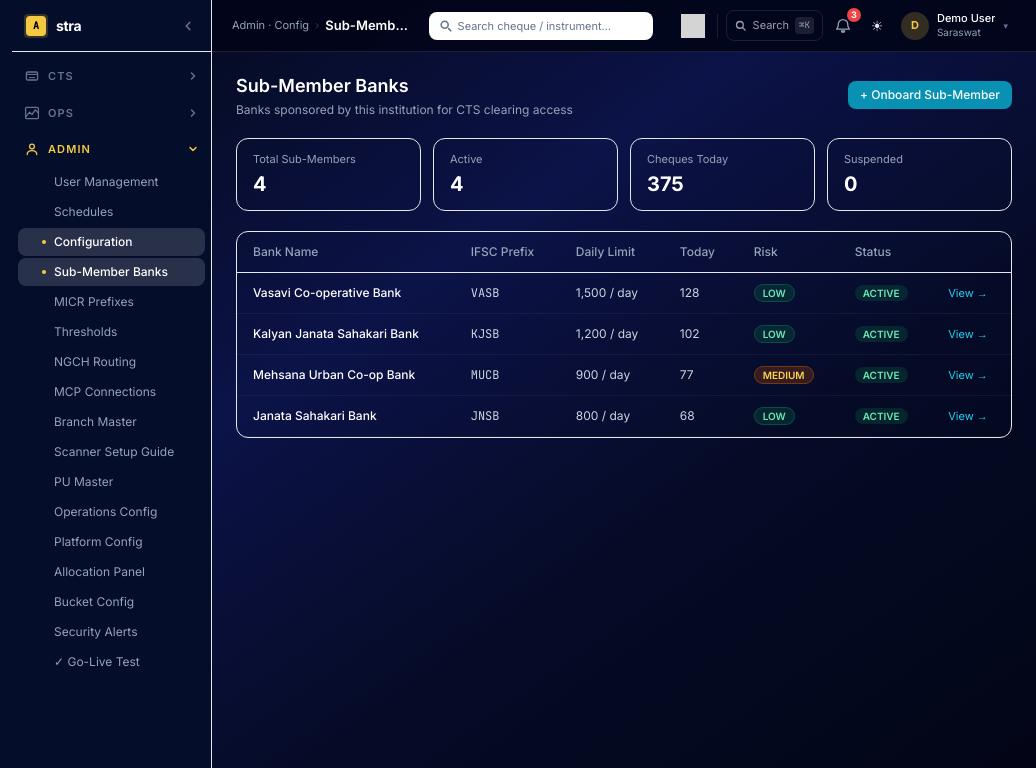
Test: CTSSubMemberBanks › detail panel can be closed
Click the button "View →" in the row of "Vasavi Co-operative Bank": (968, 292) [948,284,988,300]
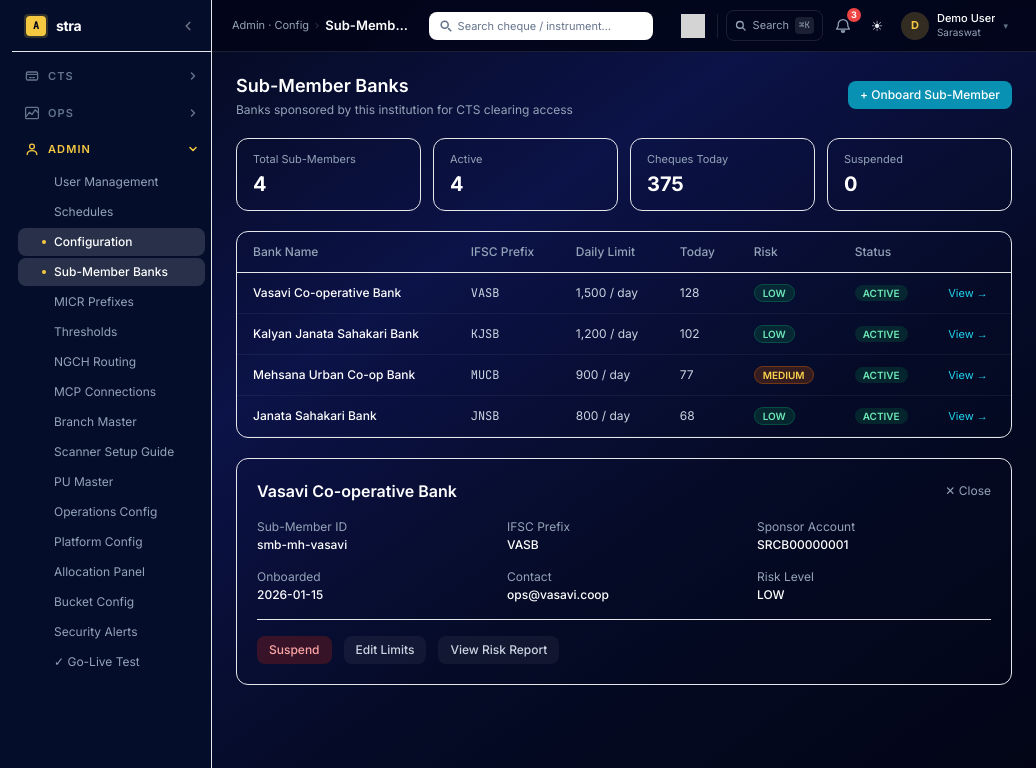
Click the button "✕ Close": (968, 490) [945,482,991,498]
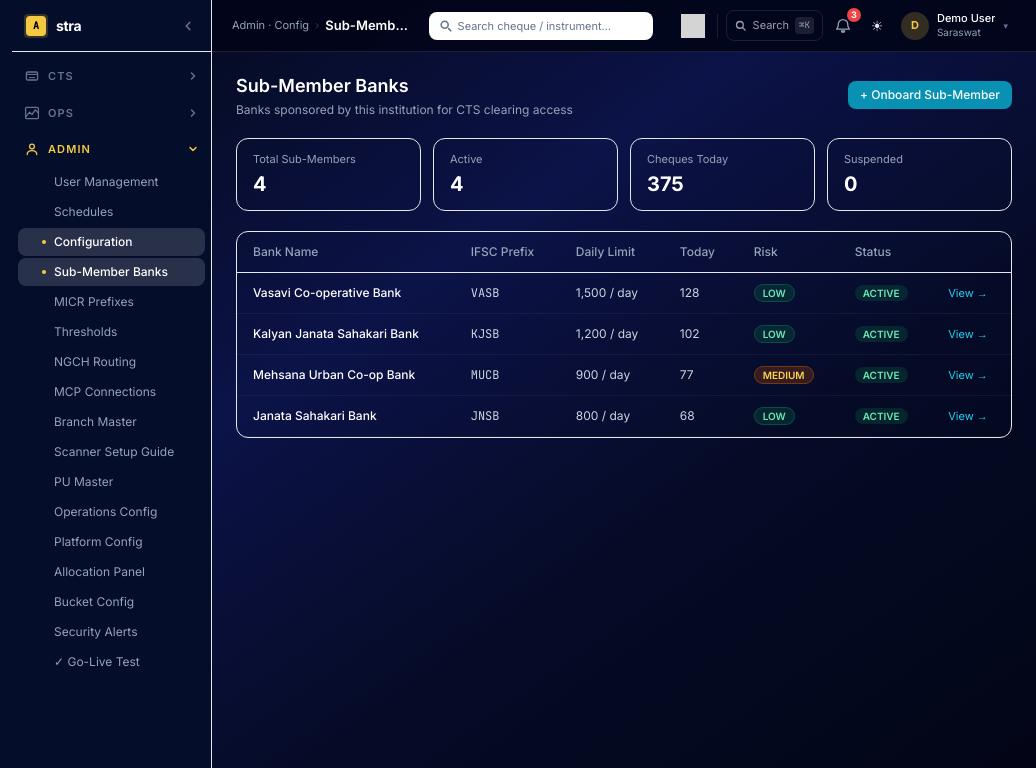
Now the text "Sub-Member ID" is gone
